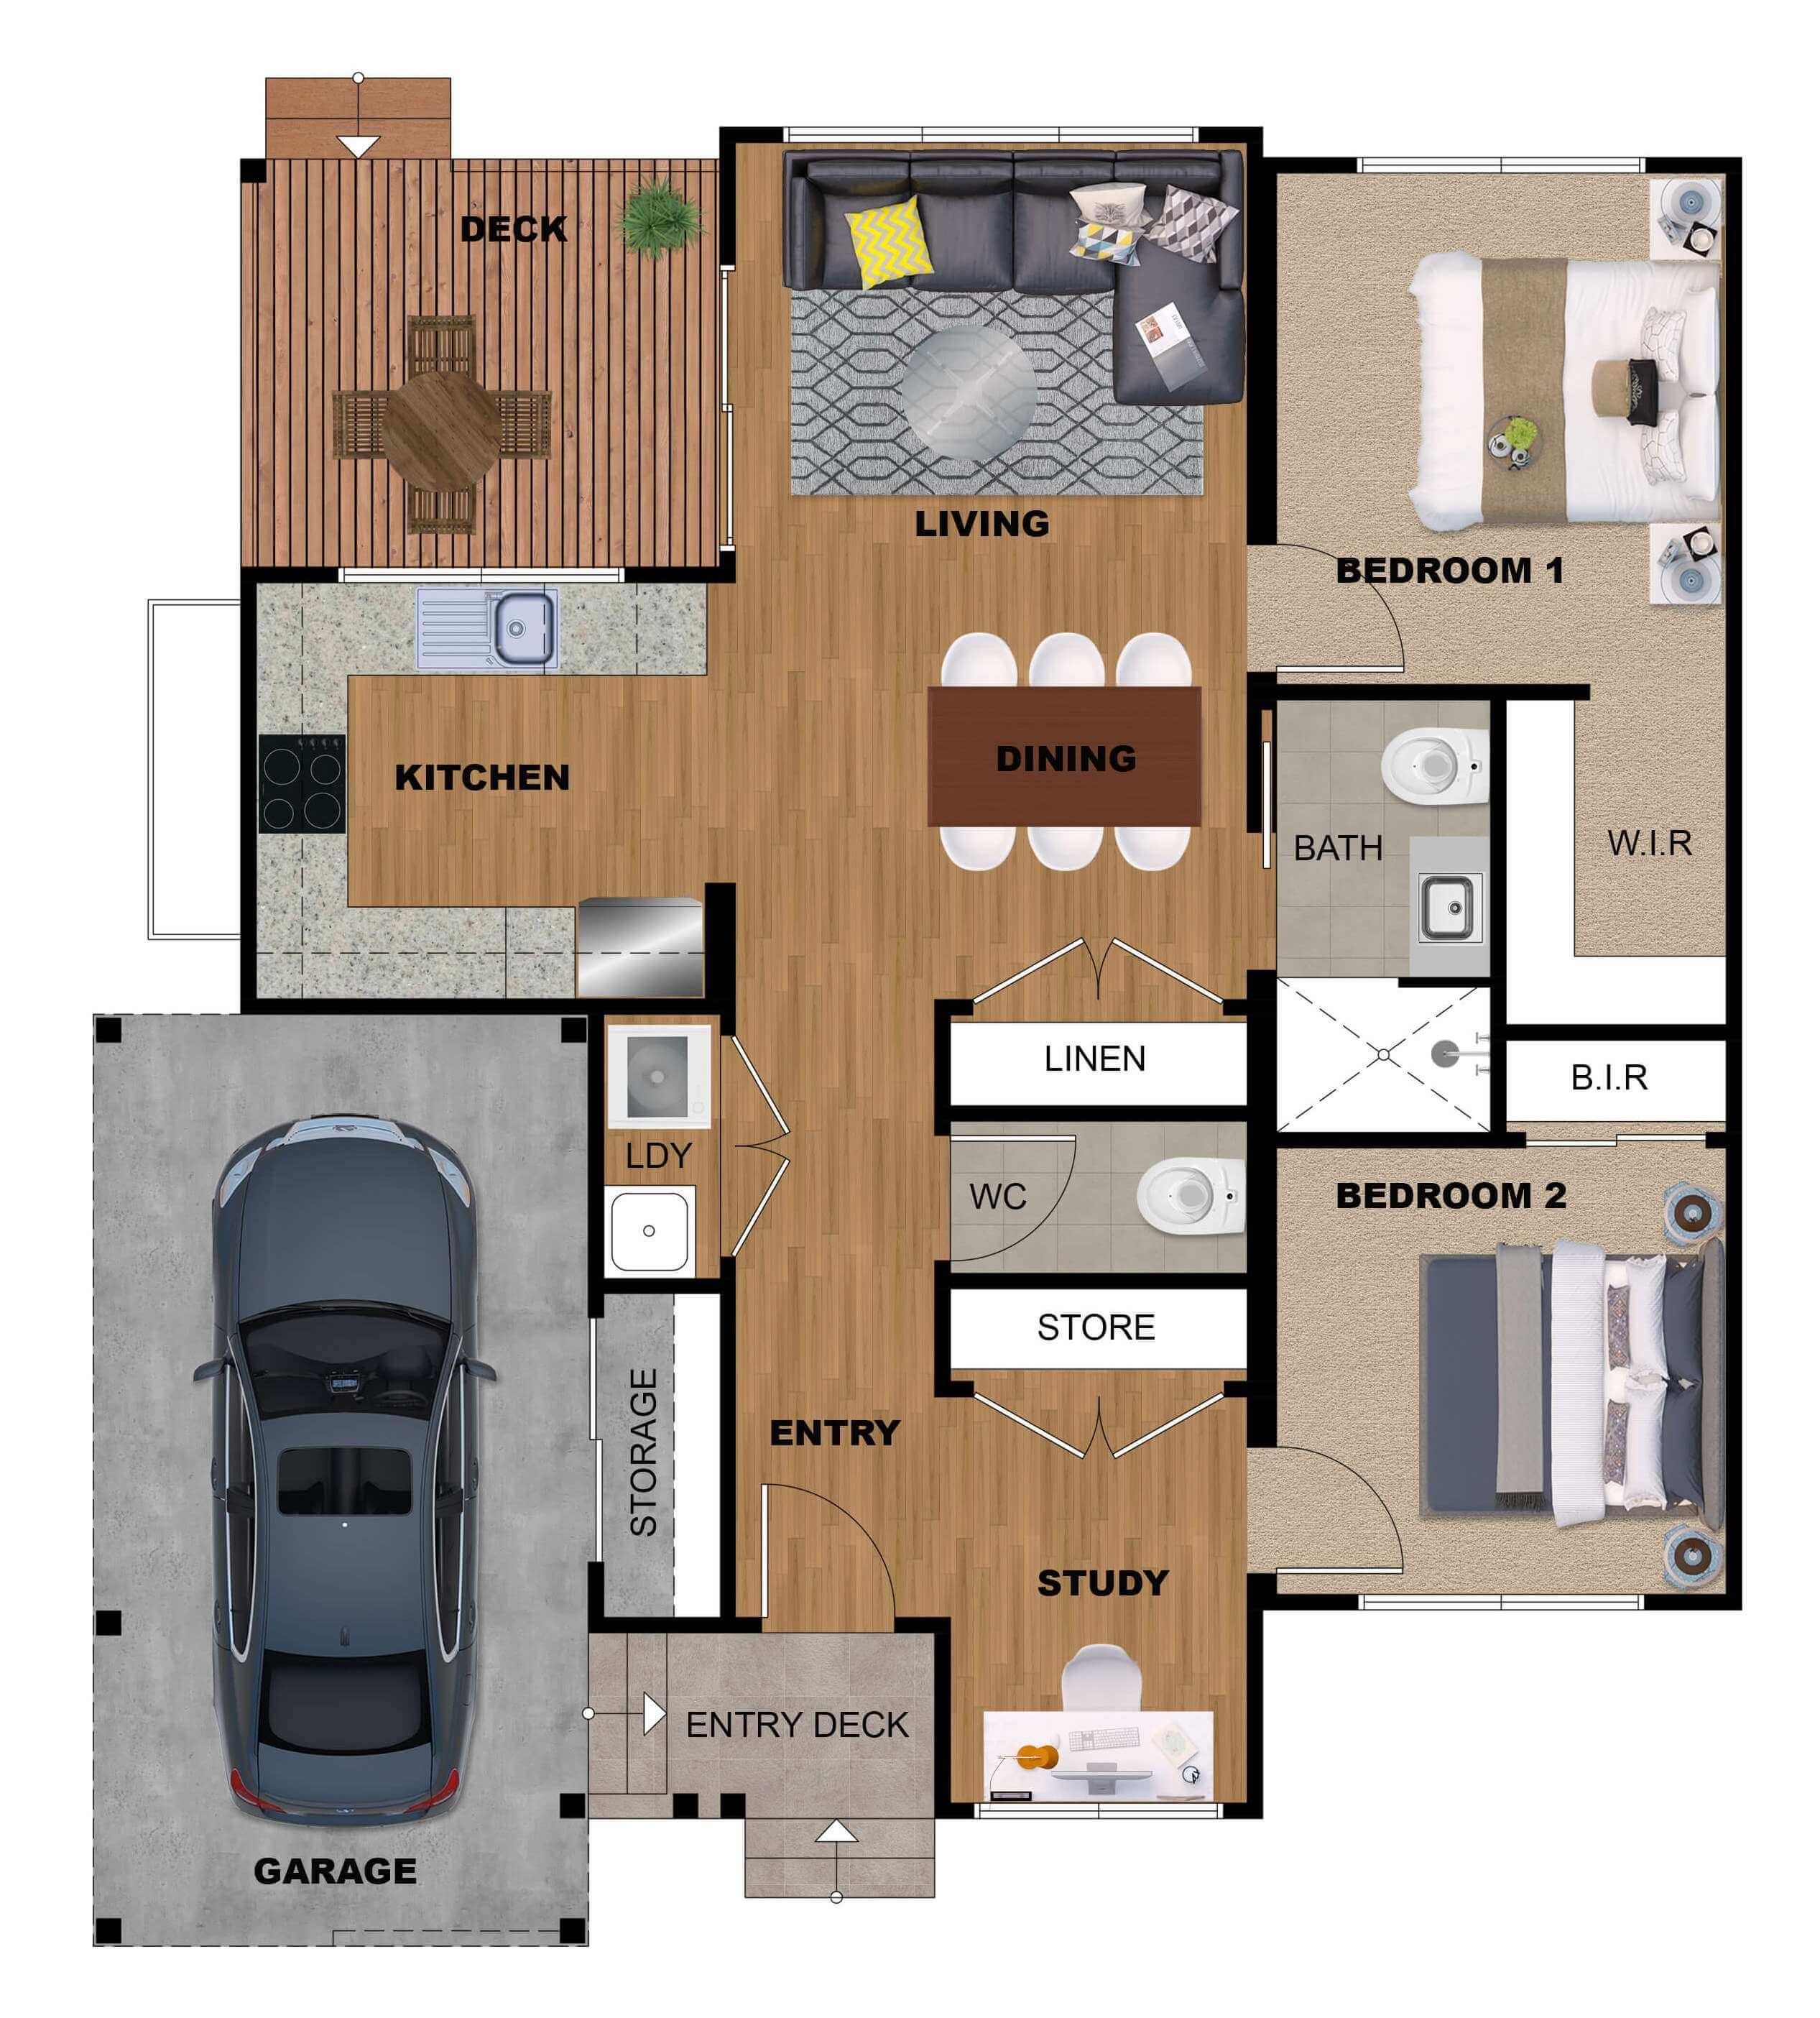room: (1247, 158, 1743, 701), (1247, 1133, 1743, 1611), (242, 566, 736, 1015)
window: (782, 126, 1200, 144), (337, 566, 625, 585), (1356, 156, 1646, 174), (1358, 1593, 1646, 1611), (973, 1802, 1228, 1820)
